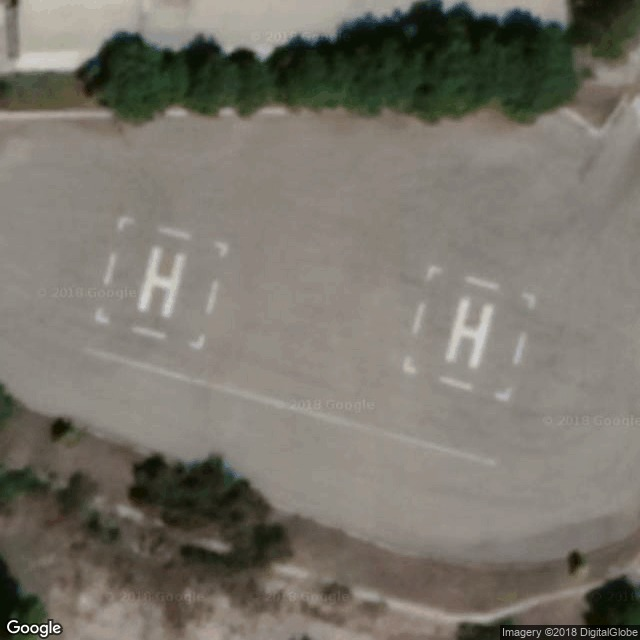heliport: (131, 240, 193, 324), (441, 282, 496, 372)
